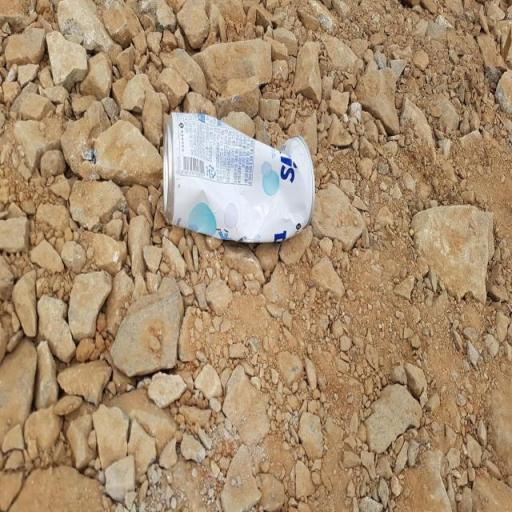metal: (148, 92, 323, 272)
